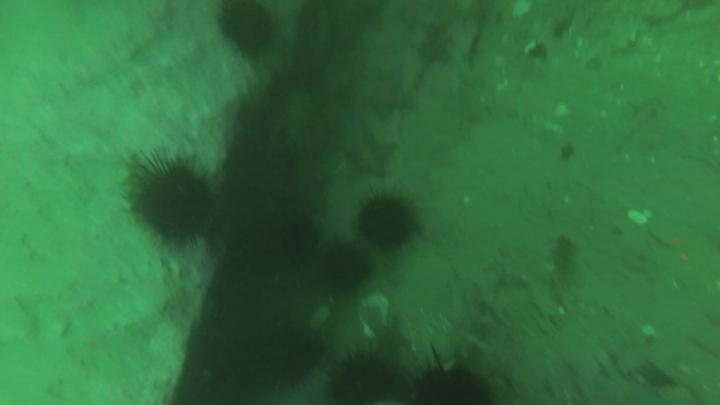echinus: (139, 168, 212, 241), (259, 216, 317, 272), (417, 363, 489, 405), (219, 2, 275, 54), (268, 331, 319, 387), (359, 195, 411, 249), (334, 359, 389, 405), (321, 243, 368, 293)
starfish: (341, 131, 397, 181), (367, 66, 410, 116), (414, 29, 454, 67)
